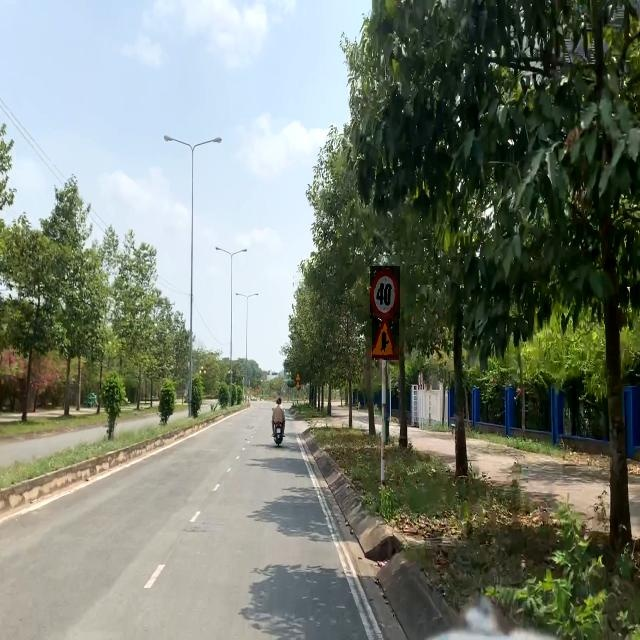bien_nguy_hiem: (370, 266, 400, 319), (372, 319, 399, 360)
